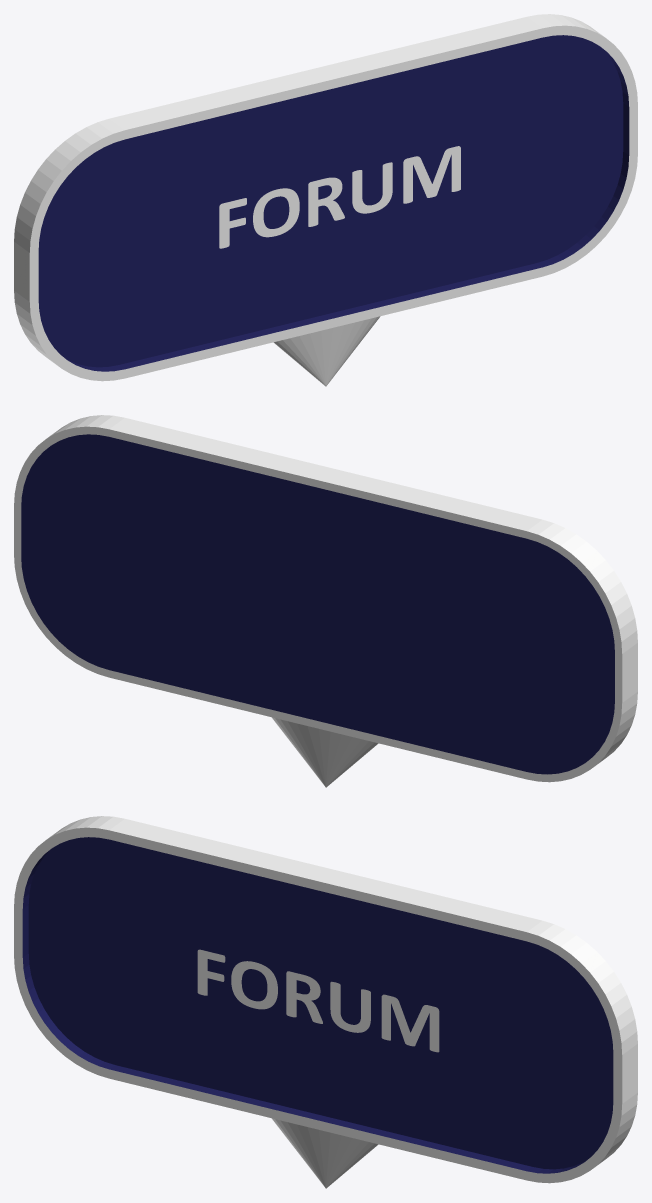
The model's file is ForumHoverd.glb.
3 views of the same model, one above another, from view 1: azimuth 30°, elevation 25°; view 2: azimuth 150°, elevation 25°; view 3: azimuth 330°, elevation 25° (orthographic).
Parts seen in each view (by area): view 1: 立方体, 立方体.001, 立方体.002, 文本, 立方体.004; view 2: 立方体, 立方体.003, 立方体.002, 立方体.004; view 3: 立方体, 立方体.001, 立方体.002, 文本, 立方体.004.
Boxes of the visible parts, x1,y1,x2,y2 form: 立方体: (38, 35, 629, 371); 立方体.001: (29, 25, 637, 381); 立方体.002: (14, 14, 603, 366); 文本: (219, 146, 460, 248); 立方体.004: (273, 316, 380, 386); 立方体: (21, 434, 614, 774); 立方体.003: (14, 426, 622, 782); 立方体.002: (48, 415, 637, 767); 立方体.004: (271, 717, 378, 787); 立方体: (22, 837, 613, 1173); 立方体.001: (14, 827, 622, 1183); 立方体.002: (48, 816, 637, 1168); 文本: (197, 949, 439, 1052); 立方体.004: (271, 1118, 378, 1188).
Bounding box in the file's own units: 5.13 × 2.52 × 0.2745.
